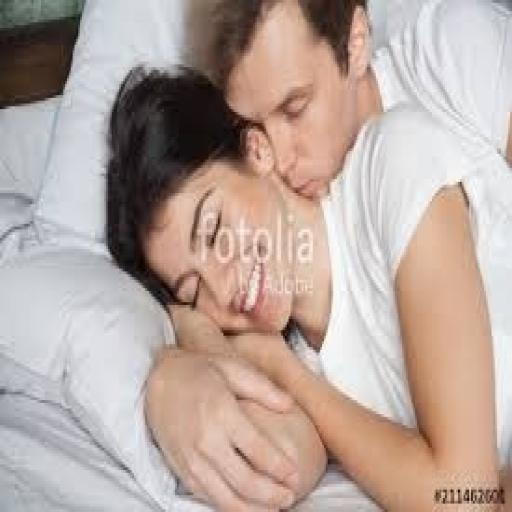hugging: (101, 0, 510, 509)
